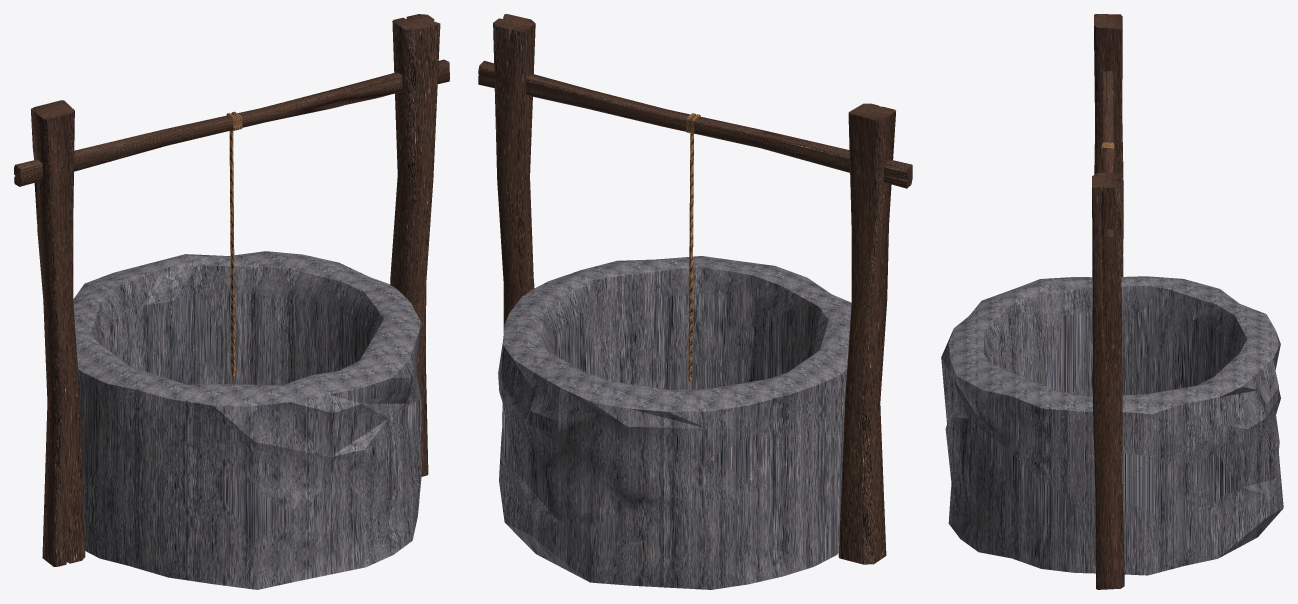
Rendered from PozoText.fbx.
3 views of the same model, side by side, from view 1: azimuth 30°, elevation 25°; view 2: azimuth 150°, elevation 25°; view 3: azimuth 270°, elevation 25° (orthographic). The views are drawn at different scales.
Visible parts, largest first — view 1: Cylinder009; view 2: Cylinder009; view 3: Cylinder009.
Part boxes in pixels (left/top/right/bottom): Cylinder009: left=14, top=14, right=449, bottom=589; Cylinder009: left=478, top=14, right=912, bottom=589; Cylinder009: left=941, top=14, right=1283, bottom=589.
Bounding box in the file's own units: 0.4662 × 0.4662 × 0.3556.
